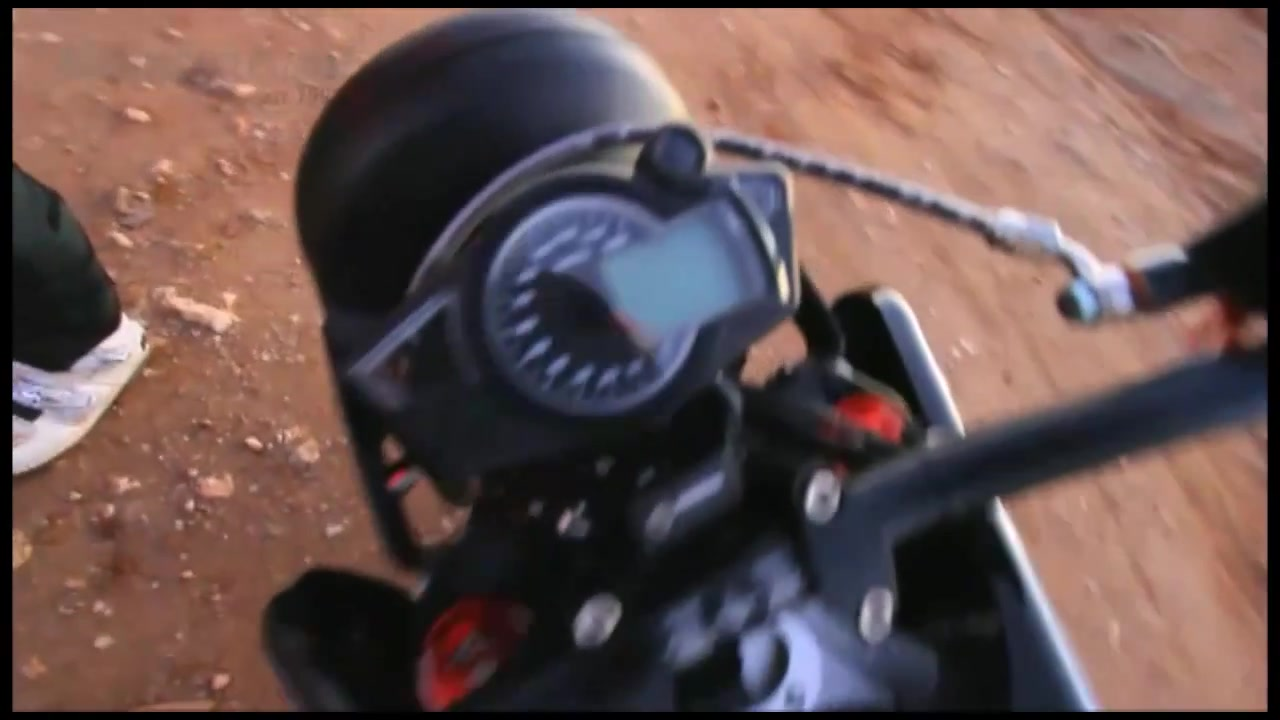motorbike: (256, 9, 1272, 715)
